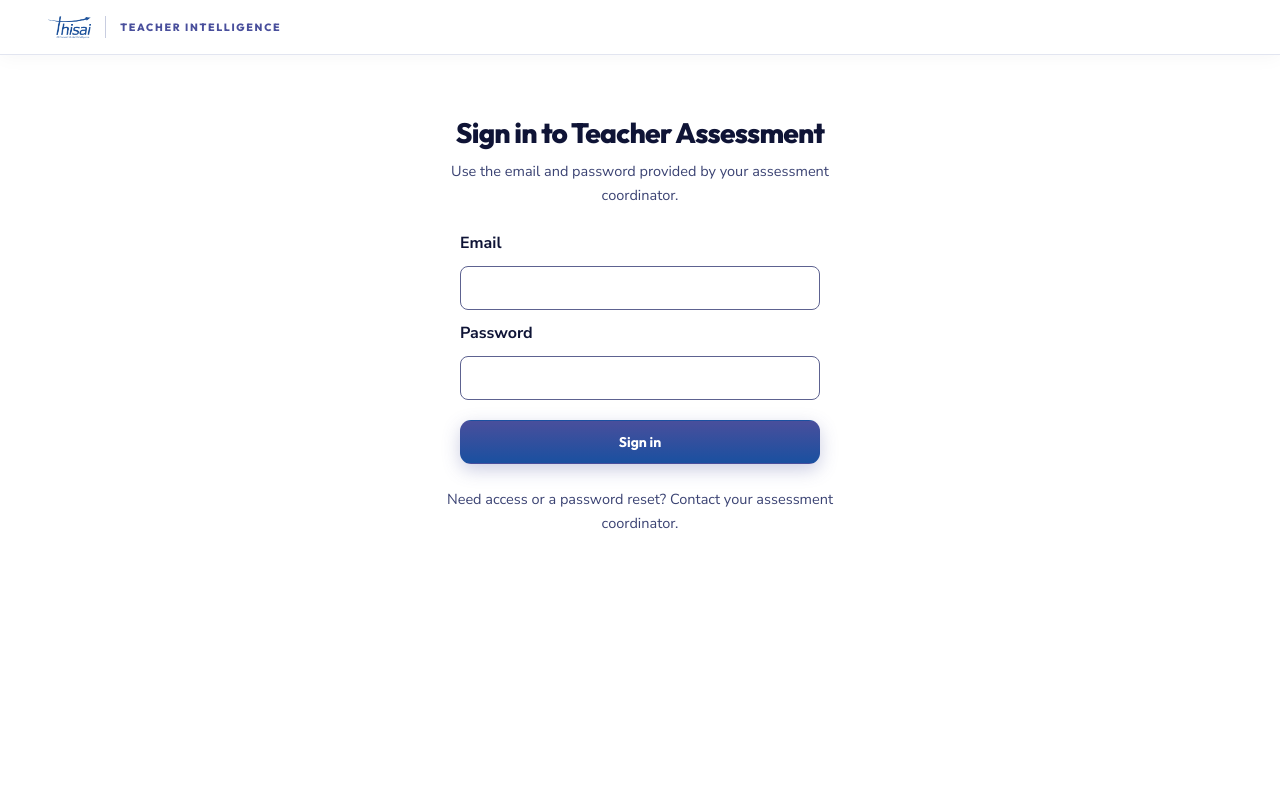
it: Supabase sign-in and API transport › reports invalid credentials and keeps the form usable
The image size is (1280, 800).
Step 1. Type "teacher@example.com" into the field labelled "Email" → (640, 288), box [460, 266, 820, 310]
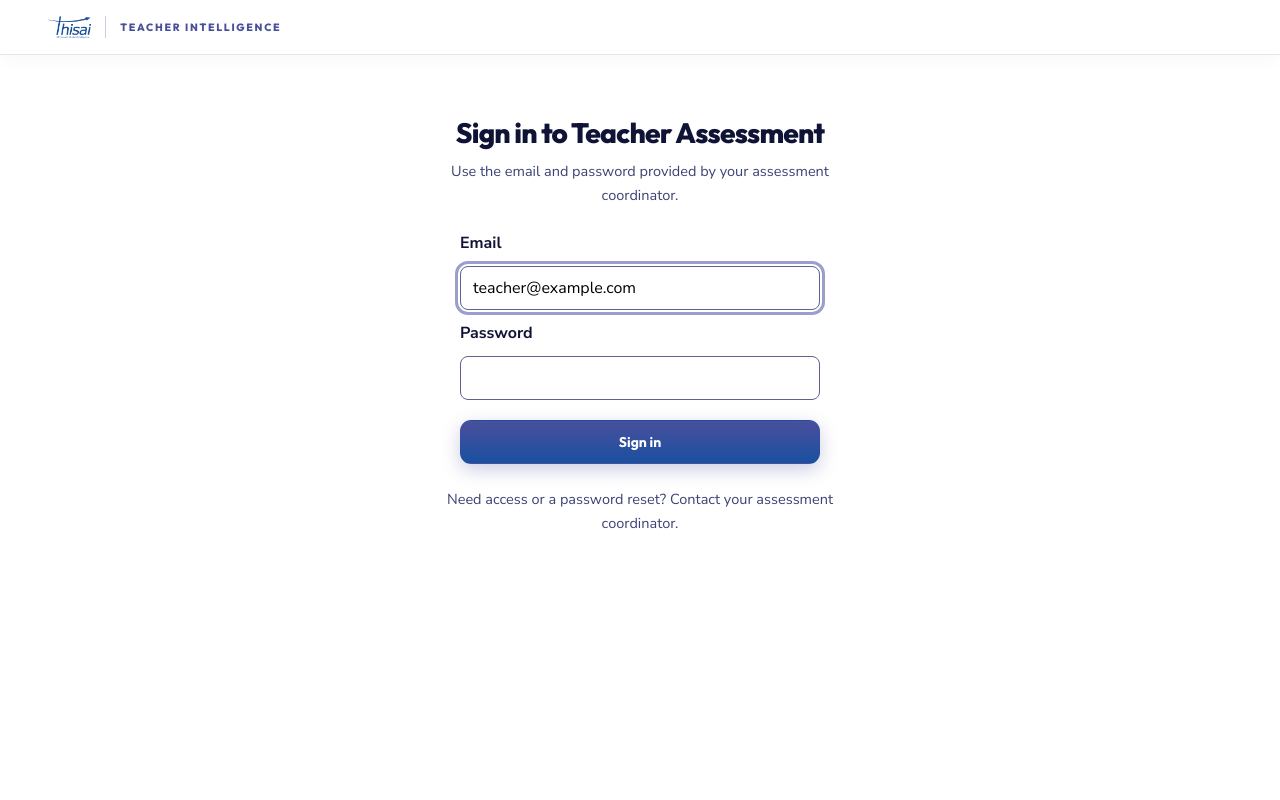
Step 2. Type "incorrect" into the password field labelled "Password" → (640, 378), box [460, 356, 820, 400]
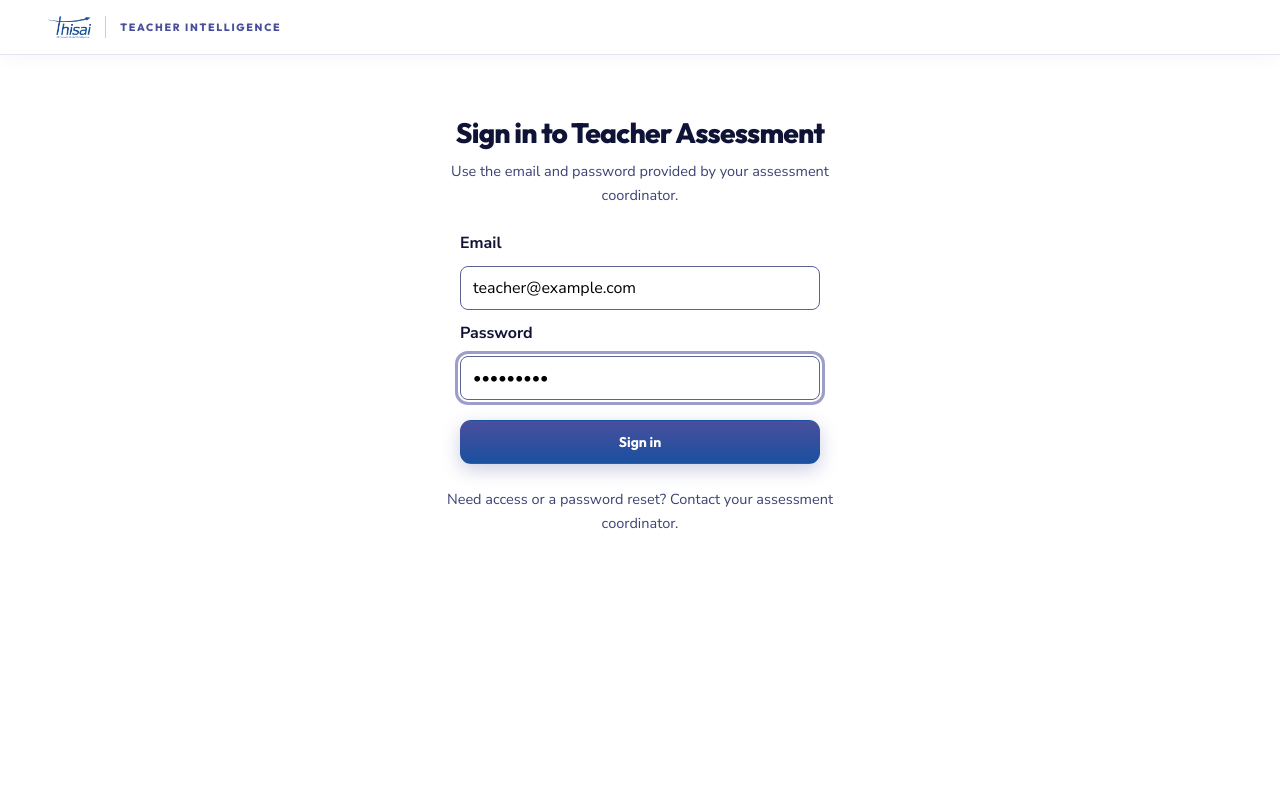
Step 3. Click the button "Sign in" → (640, 442), box [460, 420, 820, 464]
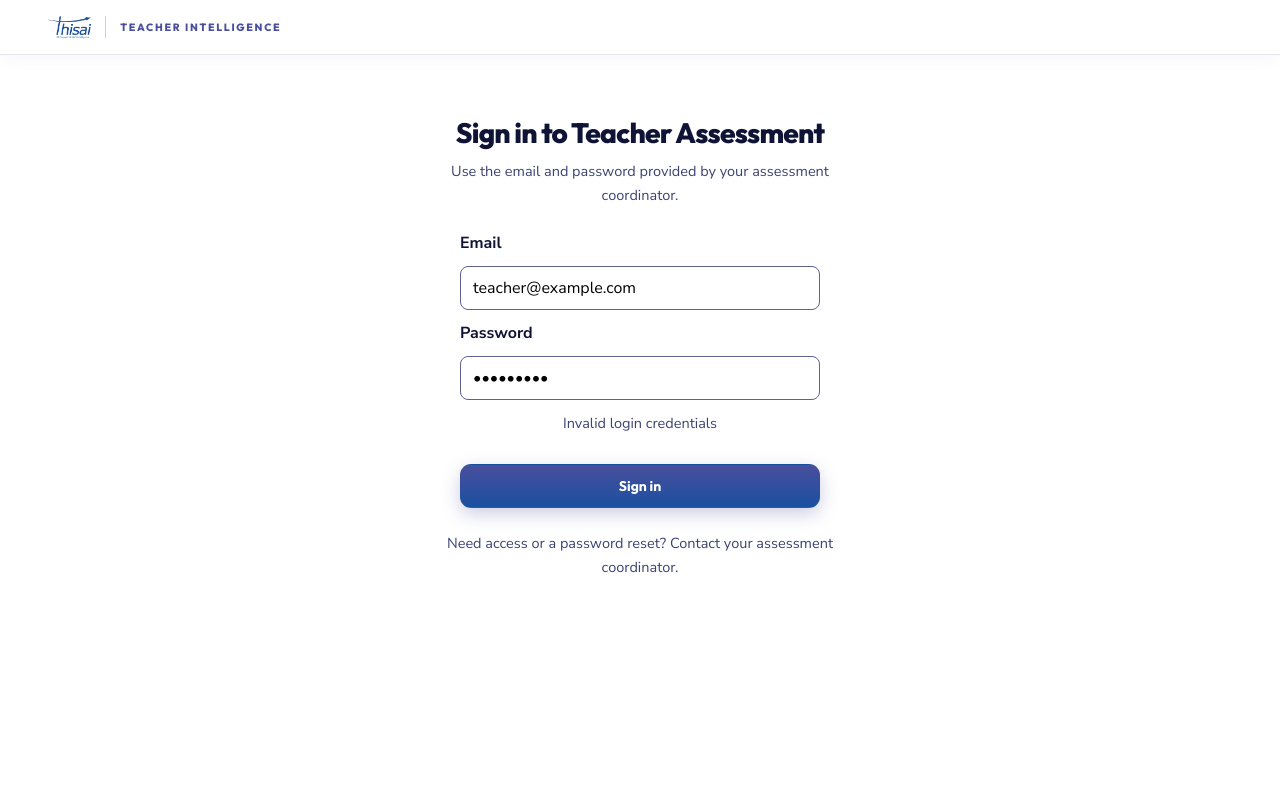
Expected: the button "Sign in" is enabled, [460, 464, 820, 508]
Expected: the message reads "Invalid login credentials", [563, 413, 717, 433]
